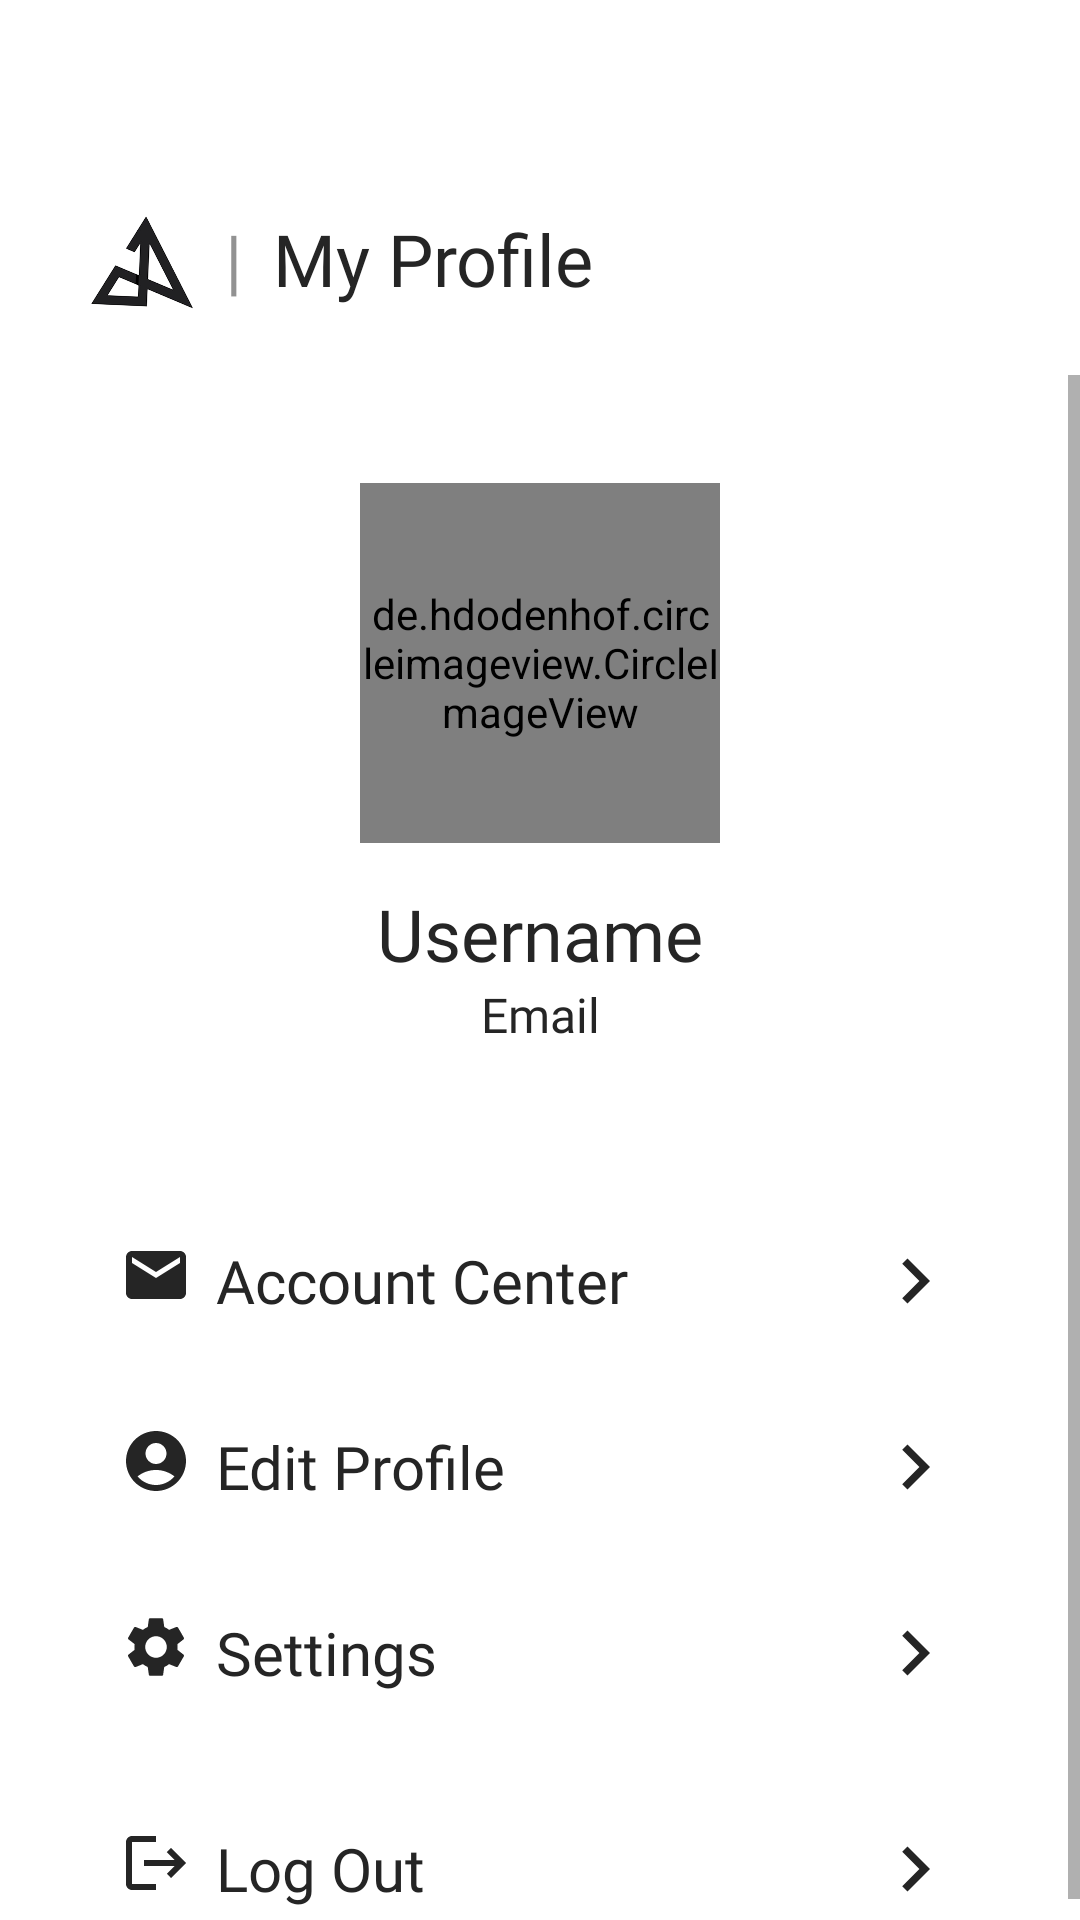

Where icons sit on this 1080x1920 app screen, as bbox=(x1, y1, x2, y2):
email: bbox=(126, 1251, 186, 1299)
next: bbox=(902, 1258, 930, 1304), bbox=(902, 1444, 930, 1490), bbox=(902, 1630, 930, 1676), bbox=(902, 1846, 930, 1892)
